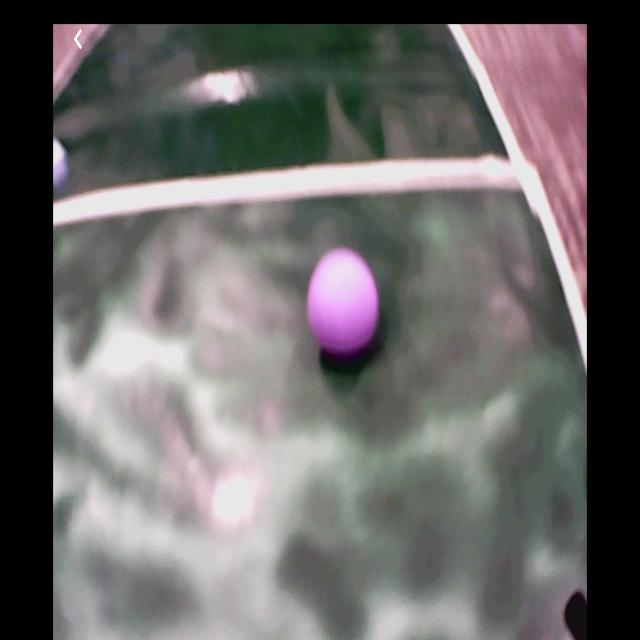ball: (310, 248, 379, 358)
